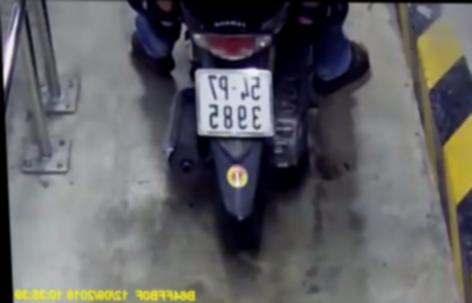License_Plate: (190, 66, 278, 146)
